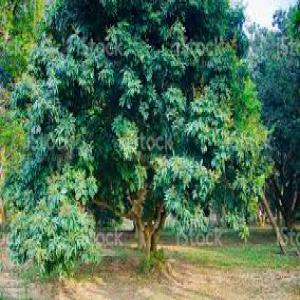Tree: (9, 2, 270, 276)
